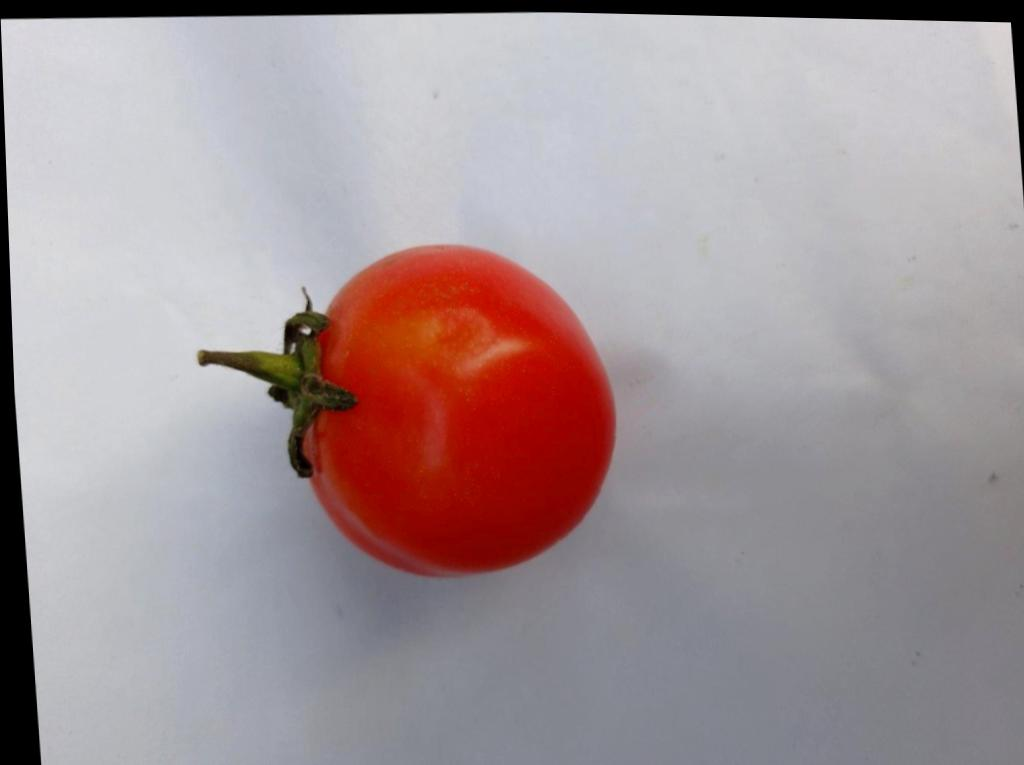tomato: (199, 244, 615, 574)
